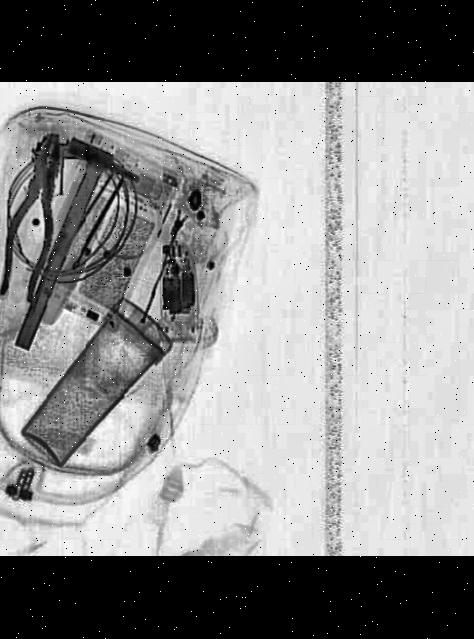Pliers: (0, 133, 75, 306)
